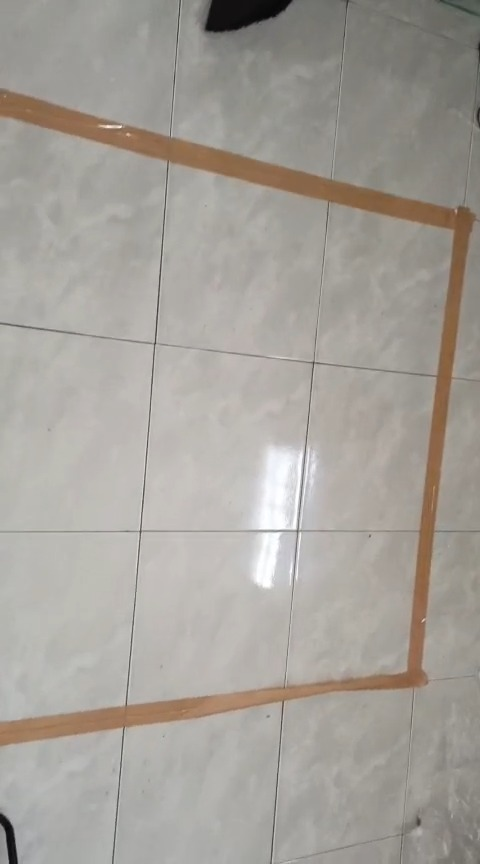floor marking: (0, 91, 473, 744)
